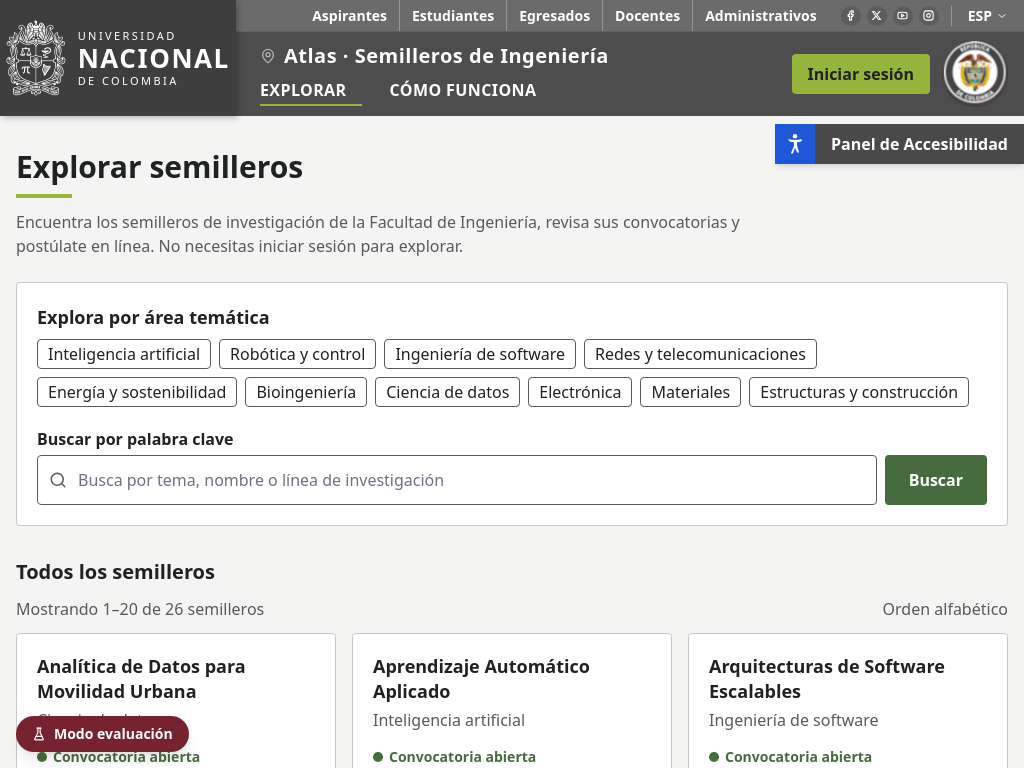
Test: E1 · Exploración (HU-01, HU-02, HU-04) › busca ignorando mayúsculas y tildes, y ofrece salida cuando no hay resultados
Type "ROBOTICA" into the dropdown labelled "Buscar por palabra clave".
click(457, 480); type("ROBOTICA")  # box top-left (37, 454), bottom-right (877, 504)
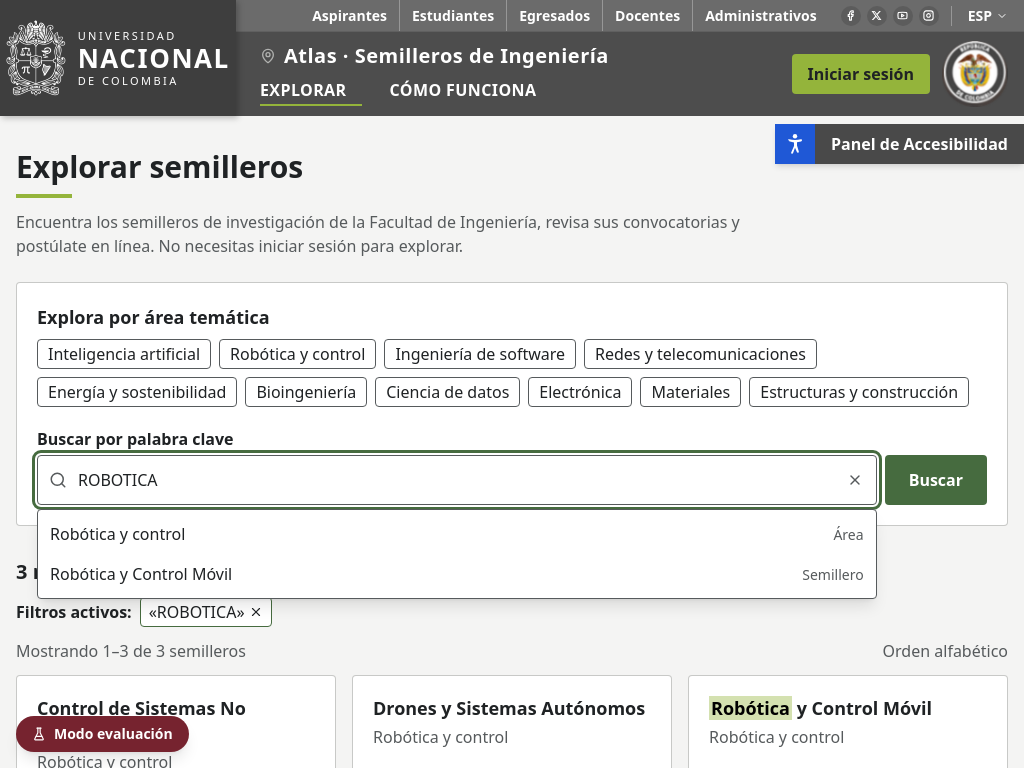
Expected: the text "Mostrando 1–3 de 3 semilleros" is shown, top-left (16, 639), bottom-right (246, 663)
Replace the text in the dropdown labelled "Buscar por palabra clave" with "xyz" at (457, 480), box top-left (37, 454), bottom-right (877, 504)
(page scrolled)
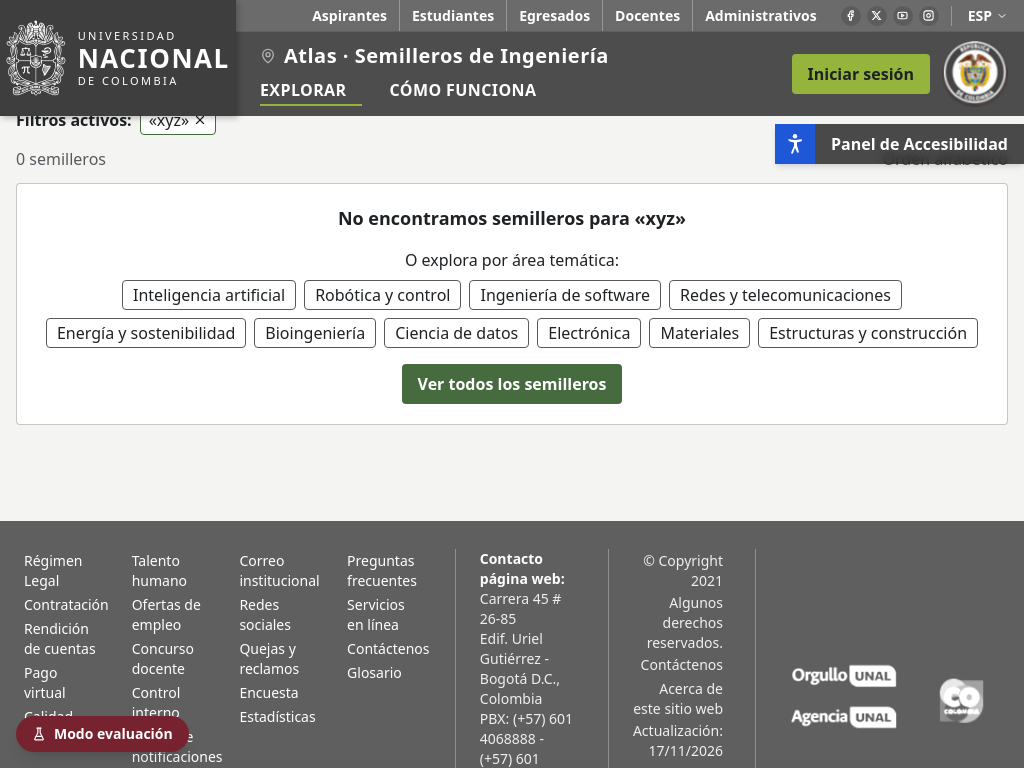
Now the text "No encontramos semilleros para «xyz»" is shown, box top-left (338, 206), bottom-right (686, 230)
Click the button "Ver todos los semilleros".
click(512, 384)  # box top-left (402, 364), bottom-right (622, 404)
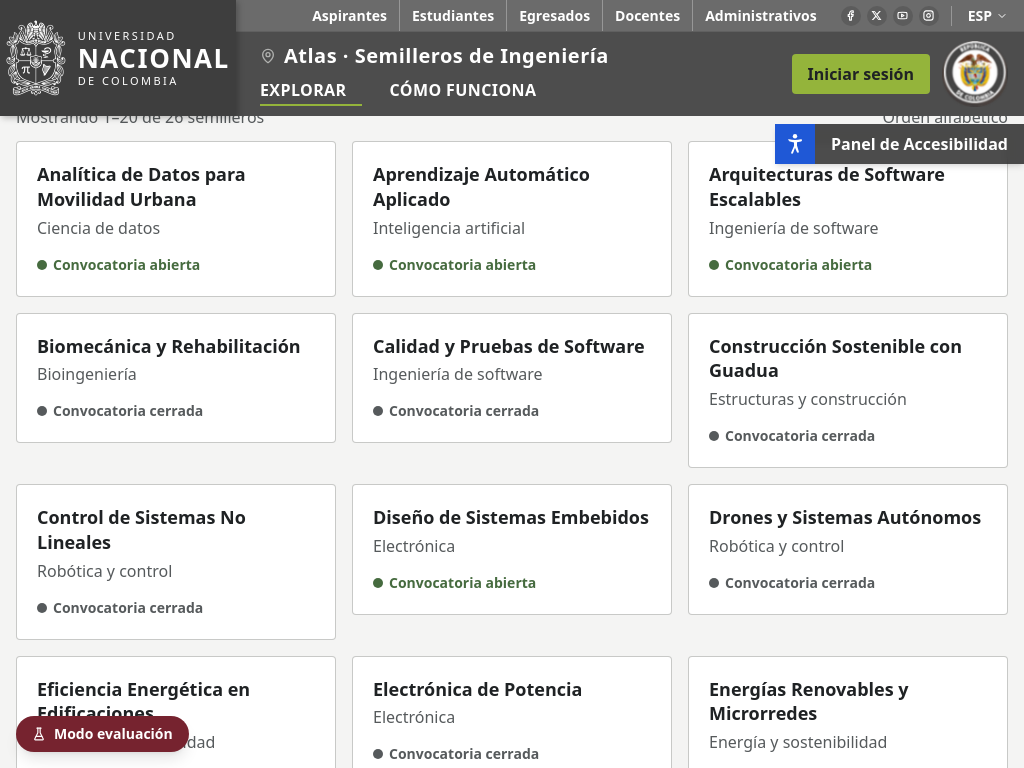
Now the text with test id "contador" shows "de 26 semilleros", box top-left (16, 106), bottom-right (264, 128)
